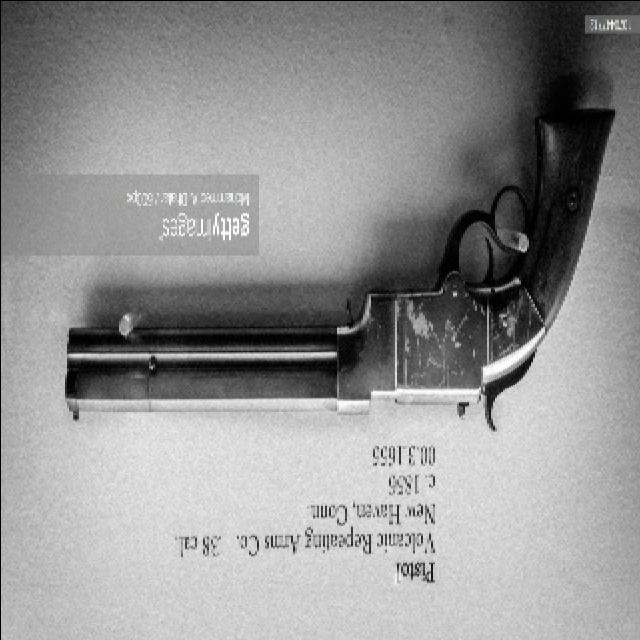handgun: (67, 108, 617, 435)
